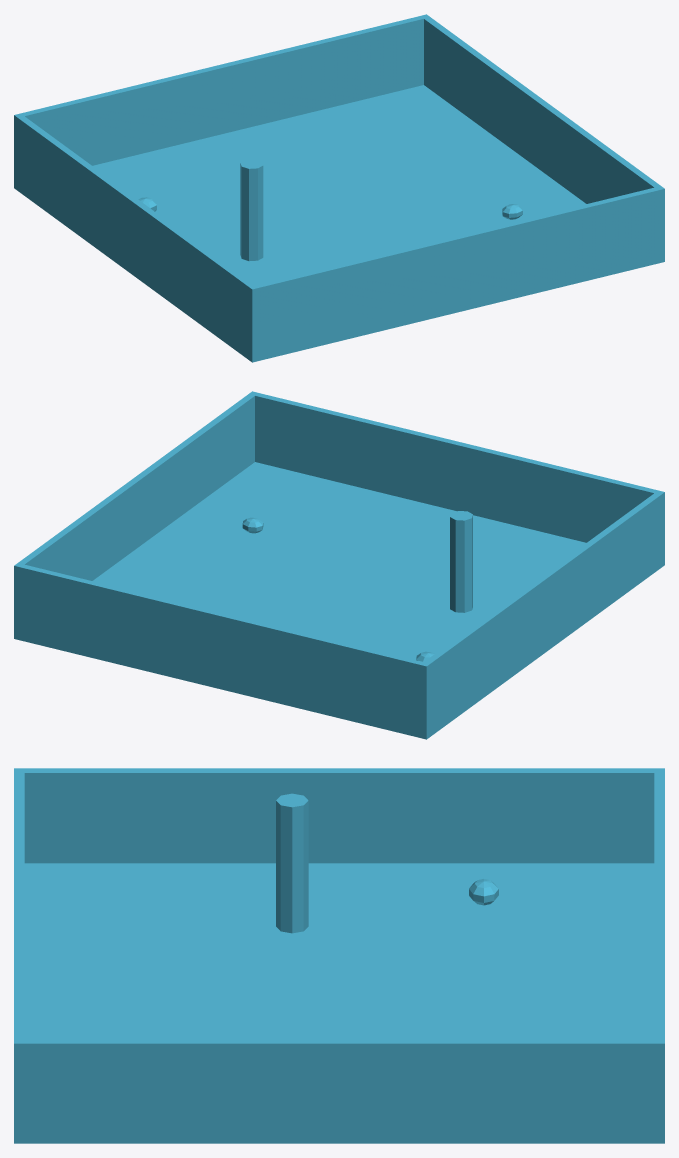
Rendered from colliders.glb.
3 views of the same model, one above another, from view 1: azimuth 30°, elevation 25°; view 2: azimuth 150°, elevation 25°; view 3: azimuth 270°, elevation 25° (orthographic). The views are drawn at different scales.
Parts seen in each view (by area): view 1: COLLIDER_Ground, COLLIDER_Boundary_South, COLLIDER_Boundary_North, COLLIDER_Boundary_West, COLLIDER_Boundary_East, COLLIDER_Neem_Trunk; view 2: COLLIDER_Ground, COLLIDER_Boundary_North, COLLIDER_Boundary_South, COLLIDER_Boundary_West, COLLIDER_Boundary_East, COLLIDER_Neem_Trunk; view 3: COLLIDER_Ground, COLLIDER_Boundary_East, COLLIDER_Boundary_West, COLLIDER_Neem_Trunk, COLLIDER_Boundary_North, COLLIDER_Boundary_South, COLLIDER_Rock_West.
Boxes of the visible parts, bbox=[...] form: COLLIDER_Ground: bbox=[14, 85, 664, 362]; COLLIDER_Boundary_South: bbox=[248, 187, 664, 358]; COLLIDER_Boundary_North: bbox=[14, 14, 429, 184]; COLLIDER_Boundary_West: bbox=[14, 115, 258, 358]; COLLIDER_Boundary_East: bbox=[420, 14, 664, 253]; COLLIDER_Neem_Trunk: bbox=[240, 159, 263, 261]; COLLIDER_Ground: bbox=[14, 462, 664, 739]; COLLIDER_Boundary_North: bbox=[14, 564, 430, 735]; COLLIDER_Boundary_South: bbox=[250, 391, 664, 564]; COLLIDER_Boundary_West: bbox=[420, 492, 664, 735]; COLLIDER_Boundary_East: bbox=[14, 391, 258, 636]; COLLIDER_Neem_Trunk: bbox=[450, 511, 472, 612]; COLLIDER_Ground: bbox=[14, 863, 664, 1143]; COLLIDER_Boundary_East: bbox=[14, 1039, 664, 1138]; COLLIDER_Boundary_West: bbox=[14, 768, 664, 863]; COLLIDER_Neem_Trunk: bbox=[276, 793, 308, 933]; COLLIDER_Boundary_North: bbox=[654, 768, 664, 1138]; COLLIDER_Boundary_South: bbox=[14, 768, 24, 1138]; COLLIDER_Rock_West: bbox=[469, 879, 498, 905].
Size of the model in its own units: 24.8 by 5.7 by 24.8.
